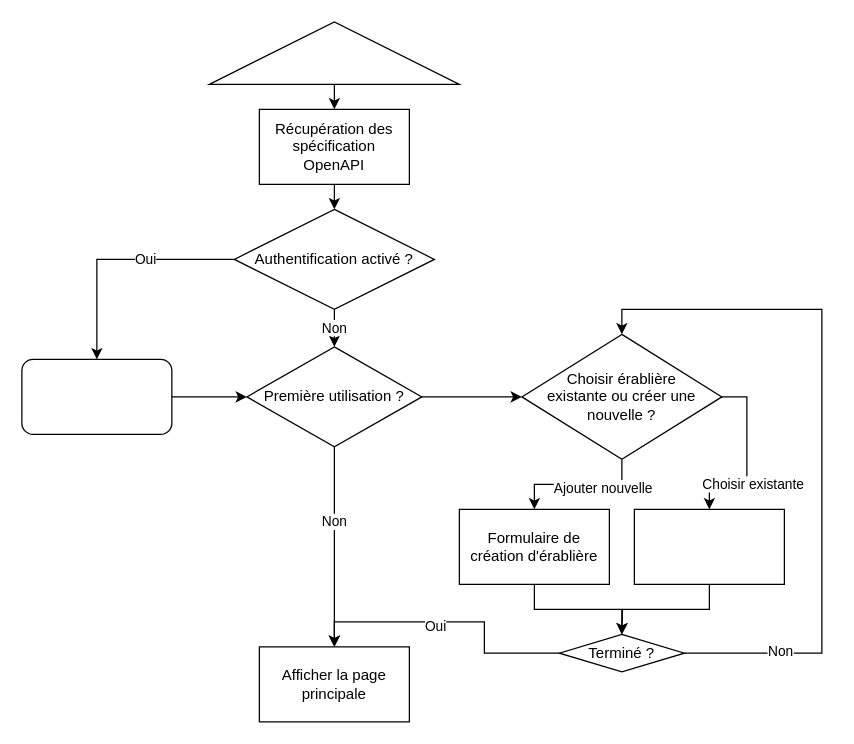
Image size: 854x744. Some labels were removed from this diagram. The shapes that lost their labels are listed below. From the top down, each one's centre as x and y in pixels, then its label:
(333,52): Démarrage de l'application
(96,396): Authentification
(708,546): Formulaire de choix d'érablière existante
